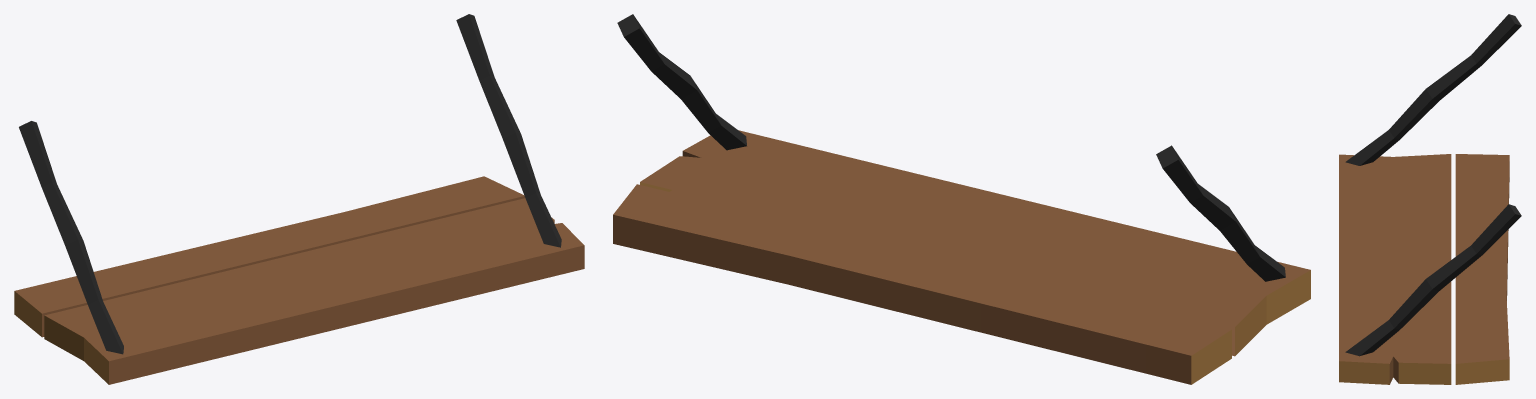
Rendered from fantasy_bed-prison.fbx.
The picture shows the model from 3 angles, left to right: view 1: azimuth 30°, elevation 25°; view 2: azimuth 150°, elevation 25°; view 3: azimuth 270°, elevation 25°; orthographic projection. The views are drawn at different scales.
Parts seen in each view (by area): view 1: fantasy_bed_prison; view 2: fantasy_bed_prison; view 3: fantasy_bed_prison.
Part boxes in pixels (<box>): fantasy_bed_prison: <box>14,14,584,384</box>; fantasy_bed_prison: <box>613,14,1310,384</box>; fantasy_bed_prison: <box>1339,14,1521,384</box>.
Size of the model in its own units: 200 by 75.19 by 73.6.
